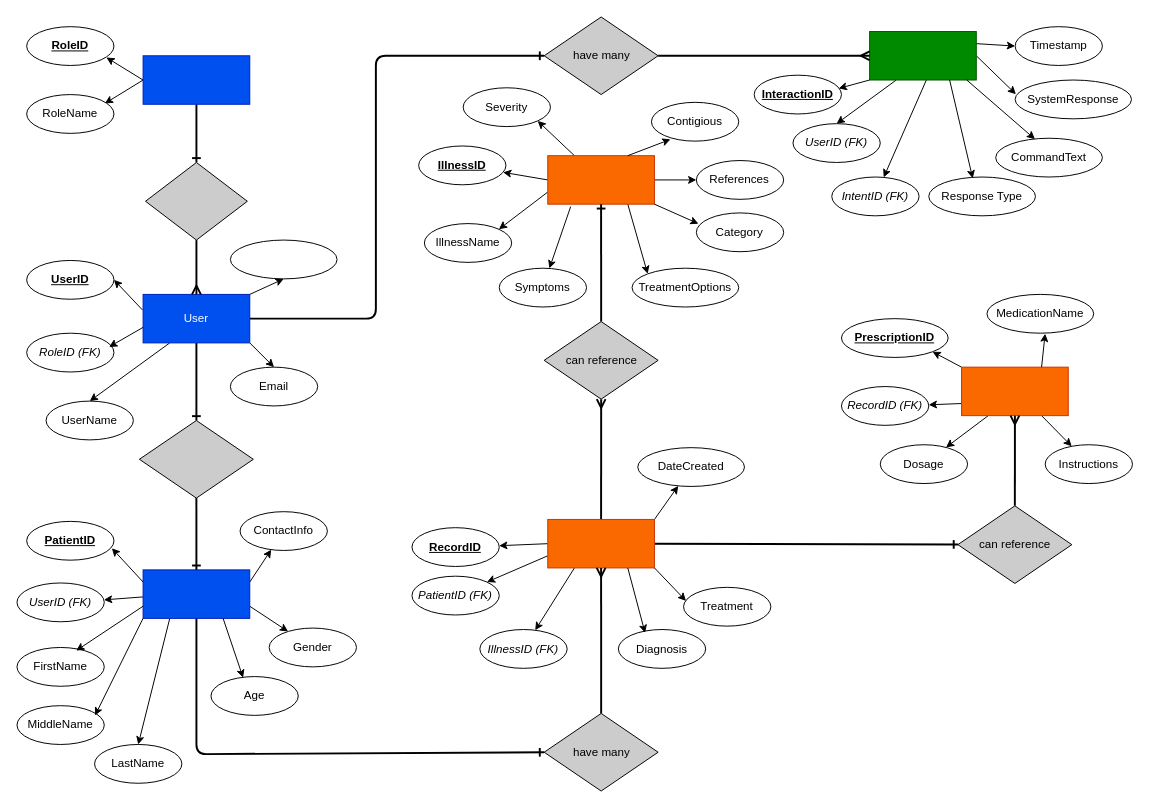
Image size: 1149x808. Some labels were removed from this diagram. Here are the shapes that lost their labels. From the top down, the centre of each, then its label:
At (x=922, y=55): "Voice_Interaction".
At (x=196, y=79): "Role".
At (x=600, y=179): "Illness_Info".
At (x=196, y=201): "assigned to".
At (x=283, y=259): "PasswordHash".
At (x=1014, y=391): "Prescriptiom".
At (x=195, y=459): "corresponds to".
At (x=600, y=543): "Medical_Record".
At (x=196, y=593): "Patient".
